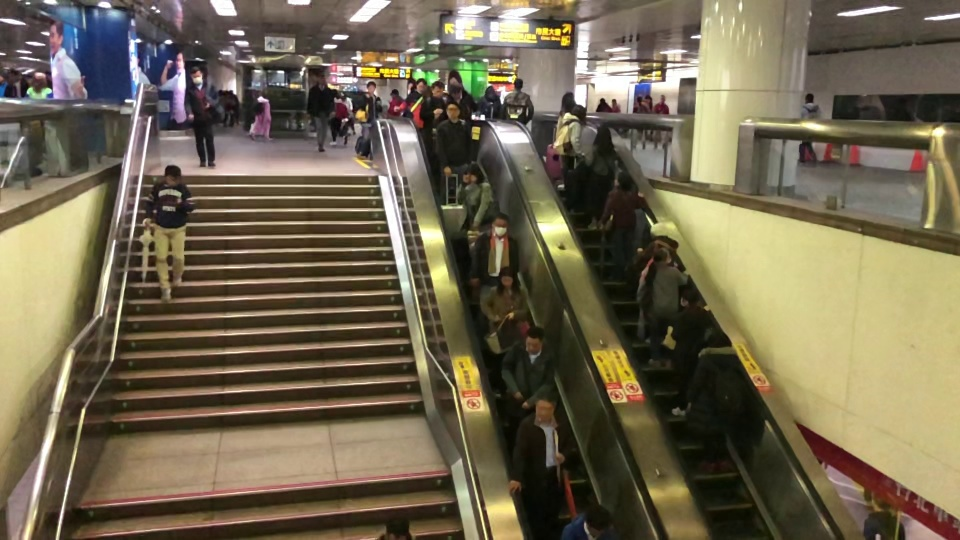person_head: (533, 384, 557, 423), (382, 514, 411, 540), (703, 325, 732, 349), (523, 325, 545, 354), (497, 265, 517, 289), (491, 211, 509, 237), (678, 287, 700, 308), (464, 162, 485, 184), (648, 221, 671, 239), (163, 164, 181, 187), (593, 126, 612, 146), (614, 171, 632, 192), (652, 247, 672, 265), (560, 90, 577, 108), (445, 101, 461, 120), (430, 80, 445, 99), (570, 105, 587, 121), (31, 71, 47, 88), (189, 66, 203, 85), (448, 84, 463, 100), (414, 78, 428, 95), (874, 499, 890, 512), (483, 85, 497, 98), (512, 78, 524, 91), (316, 79, 328, 92), (389, 87, 400, 99), (365, 81, 376, 93), (12, 70, 22, 82), (804, 92, 814, 103), (260, 89, 269, 99), (658, 94, 666, 104), (644, 94, 652, 103), (333, 90, 341, 99), (636, 96, 643, 106), (0, 71, 5, 84), (339, 91, 347, 99), (598, 97, 606, 104), (223, 89, 230, 96), (611, 98, 617, 106), (217, 90, 223, 96), (229, 89, 234, 95)
person_vbox: (507, 384, 579, 540), (684, 325, 744, 477), (500, 325, 556, 461), (145, 164, 196, 302), (478, 265, 530, 399), (632, 221, 687, 345), (468, 211, 521, 337), (636, 247, 690, 369), (665, 287, 714, 417), (595, 171, 649, 283), (182, 66, 224, 168), (583, 125, 622, 231), (435, 100, 472, 204), (417, 80, 448, 195), (560, 105, 588, 213), (456, 162, 494, 233), (351, 81, 382, 159), (305, 79, 336, 152), (560, 503, 618, 540), (861, 499, 907, 540), (393, 78, 428, 128), (502, 78, 535, 125), (798, 91, 819, 163), (247, 89, 273, 141), (327, 89, 348, 147), (554, 90, 577, 142), (629, 96, 648, 151), (581, 503, 612, 536), (652, 94, 670, 150), (448, 84, 474, 120), (476, 85, 502, 119), (24, 71, 52, 99), (339, 91, 356, 136), (3, 69, 29, 98), (219, 89, 235, 128), (387, 87, 405, 116), (643, 94, 653, 142), (229, 89, 240, 125), (595, 96, 612, 113), (0, 71, 9, 98), (609, 98, 621, 113), (214, 90, 223, 102)
